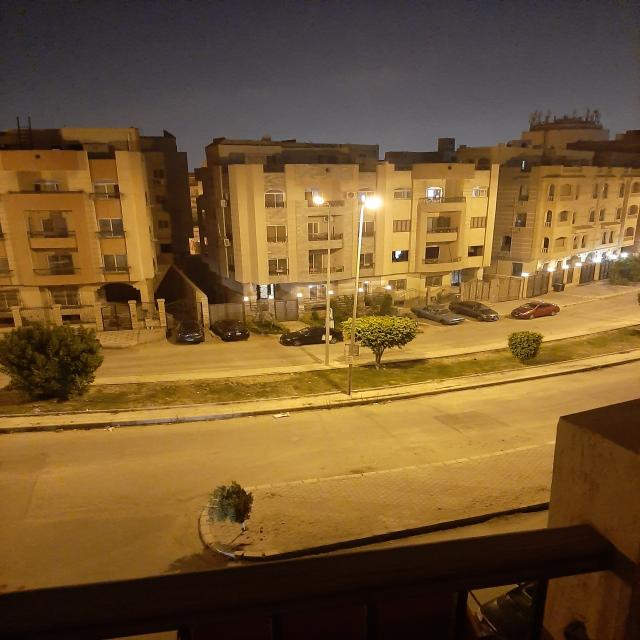Street Light: (346, 196, 383, 396), (312, 197, 331, 366)
